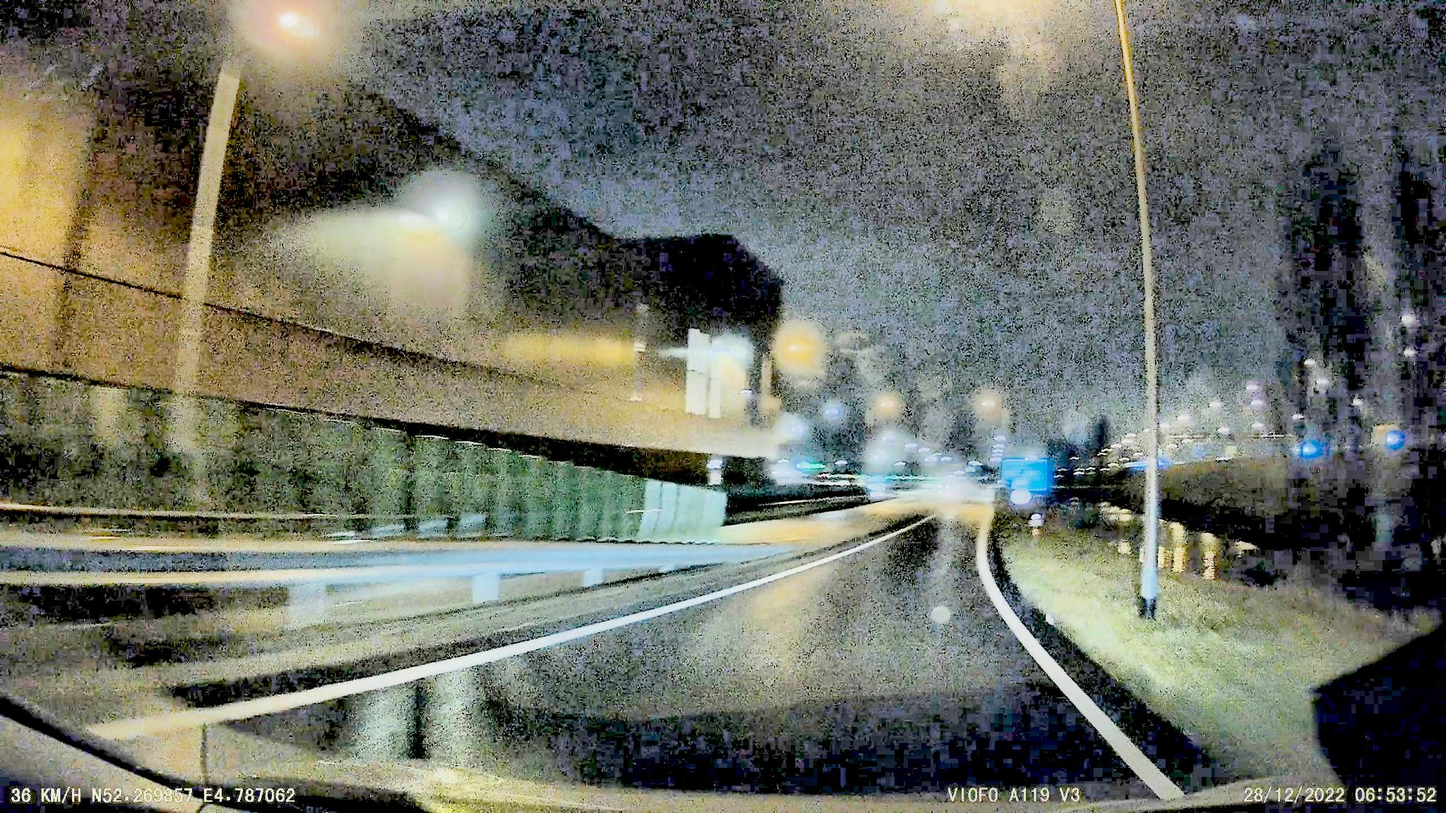Roads: (199, 503, 1159, 813)
